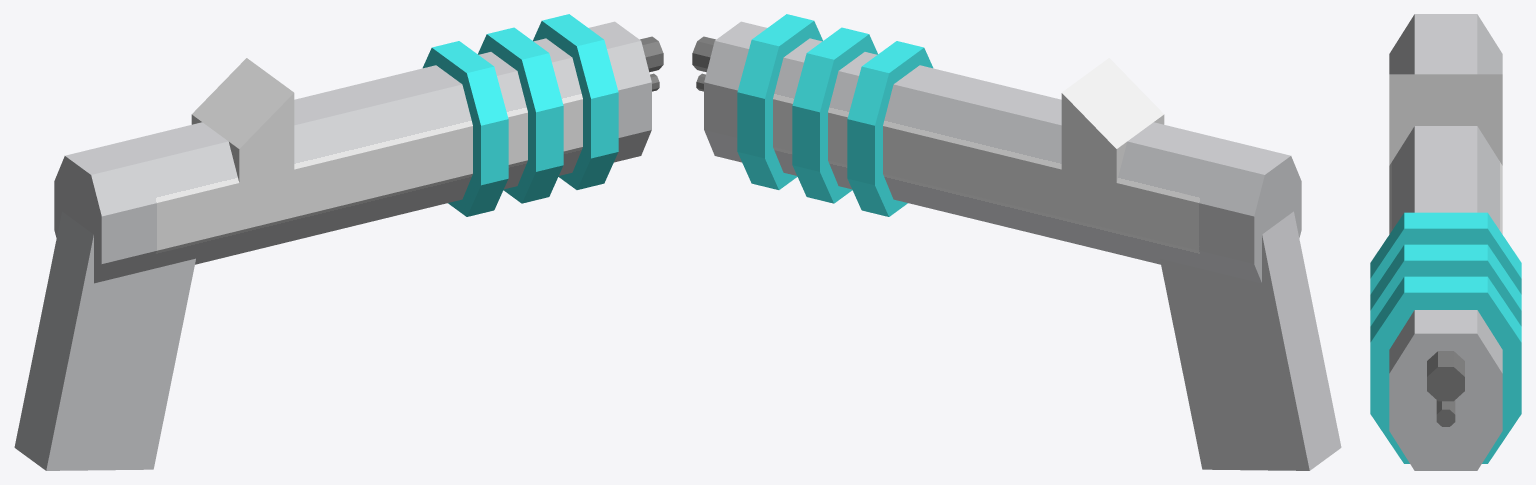
Rendered from CreationGun.fbx.
The picture shows the model from 3 angles, left to right: view 1: azimuth 30°, elevation 25°; view 2: azimuth 150°, elevation 25°; view 3: azimuth 270°, elevation 25°; orthographic projection. The views are drawn at different scales.
Visible parts, largest first — view 1: cylinder, cube, cuboid, cylinder_2, cylinder_1, cylinder_3; view 2: cylinder, cube, cuboid, cylinder_2, cylinder_1, cylinder_3; view 3: cylinder, cylinder_1, cuboid, cylinder_2, cylinder_3, cylinder_4, cylinder_5.
Part boxes in pixels (x1=…): cylinder: x1=54, y1=21, x2=651, y2=283; cube: x1=14, y1=211, x2=195, y2=470; cuboid: x1=191, y1=58, x2=294, y2=191; cylinder_2: x1=478, y1=27, x2=563, y2=203; cylinder_1: x1=533, y1=14, x2=618, y2=189; cylinder_3: x1=422, y1=41, x2=508, y2=216; cylinder: x1=704, y1=21, x2=1301, y2=283; cube: x1=1160, y1=211, x2=1341, y2=470; cuboid: x1=1061, y1=58, x2=1164, y2=182; cylinder_2: x1=792, y1=27, x2=877, y2=203; cylinder_1: x1=737, y1=14, x2=822, y2=189; cylinder_3: x1=847, y1=41, x2=933, y2=216; cylinder: x1=1389, y1=14, x2=1502, y2=470; cylinder_1: x1=1370, y1=276, x2=1521, y2=463; cuboid: x1=1389, y1=74, x2=1502, y2=165; cylinder_2: x1=1370, y1=244, x2=1521, y2=326; cylinder_3: x1=1370, y1=212, x2=1521, y2=294; cylinder_4: x1=1427, y1=351, x2=1464, y2=401; cylinder_5: x1=1436, y1=400, x2=1455, y2=426.
Size of the model in its own units: 71.04 by 38.05 by 12.5.
1 material, 1 textured.
